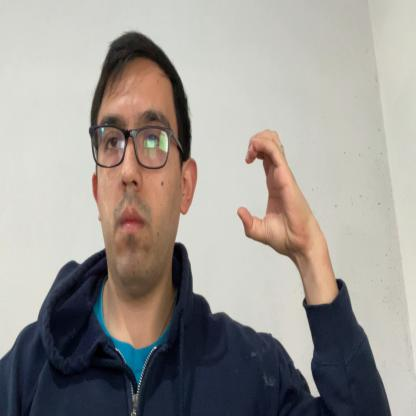C: (237, 128, 304, 258)
